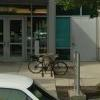Bicycle: (27, 52, 70, 81)
